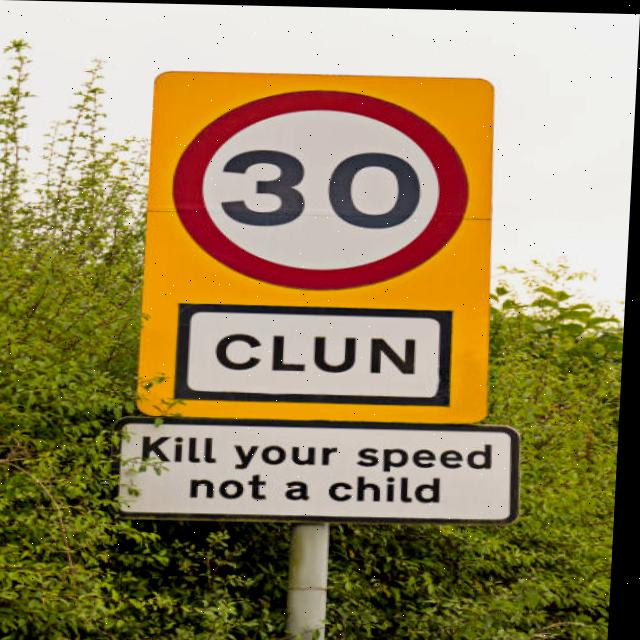Speed limit 30: (159, 81, 491, 298)
